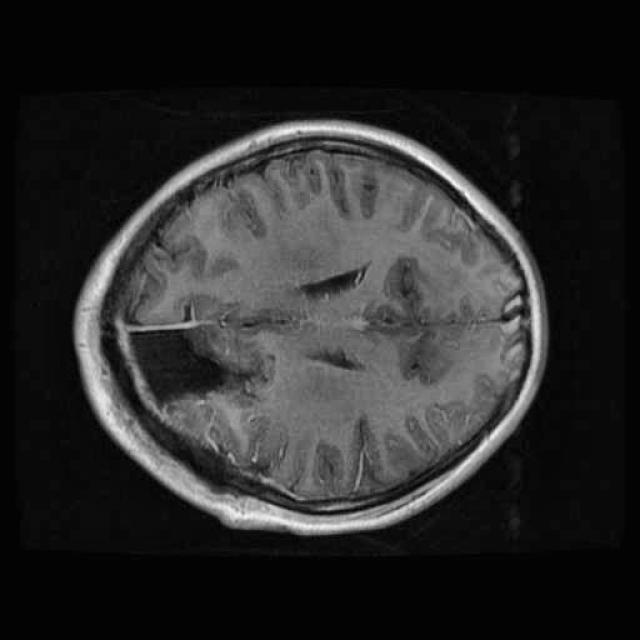Tumor: (112, 278, 308, 427)
